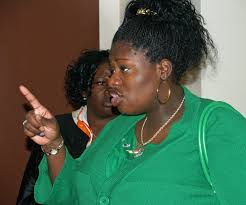hand: (15, 74, 63, 147)
